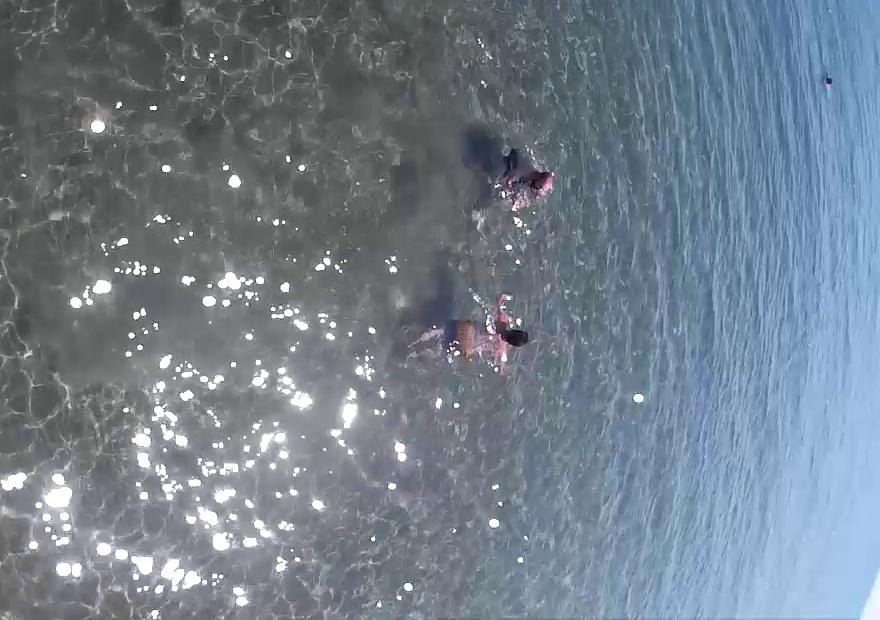swimmer: (402, 276, 526, 401), (463, 111, 560, 232)
